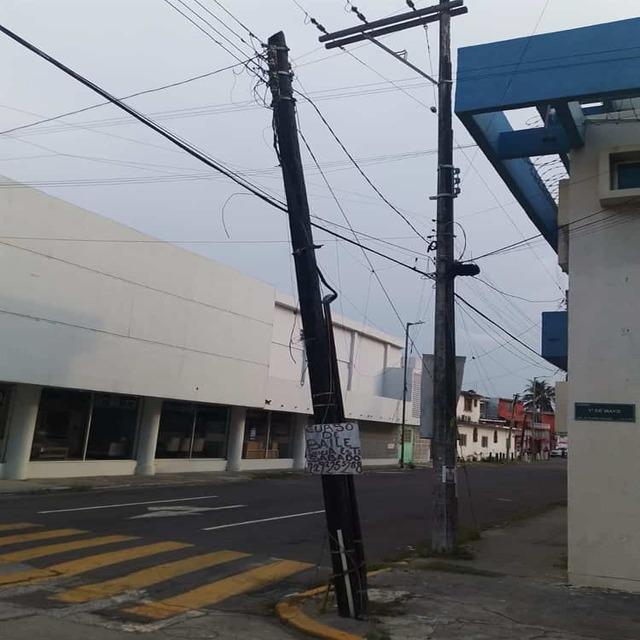Inclined Pole: (256, 19, 377, 619)
